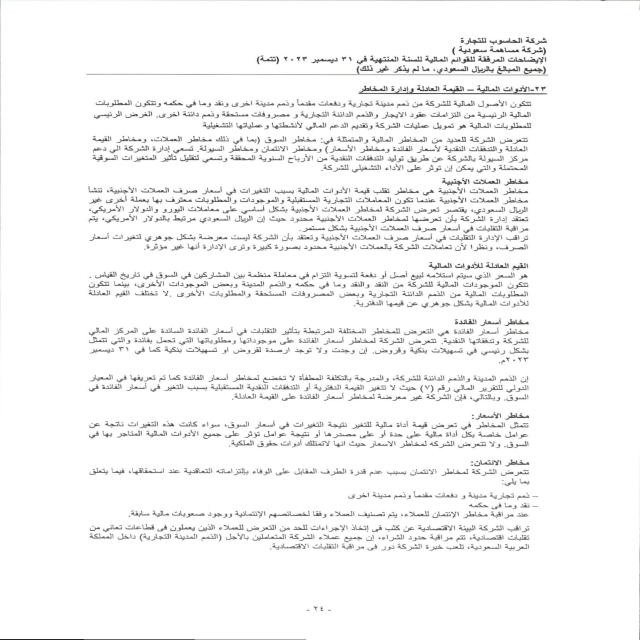notes: (424, 54, 552, 65)
text: (61, 83, 560, 564)
